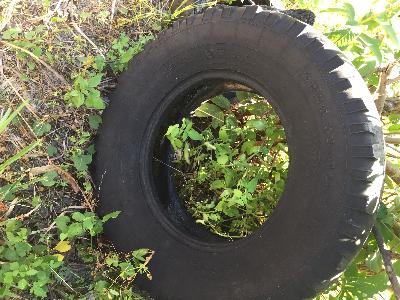tire: (90, 4, 392, 300)
